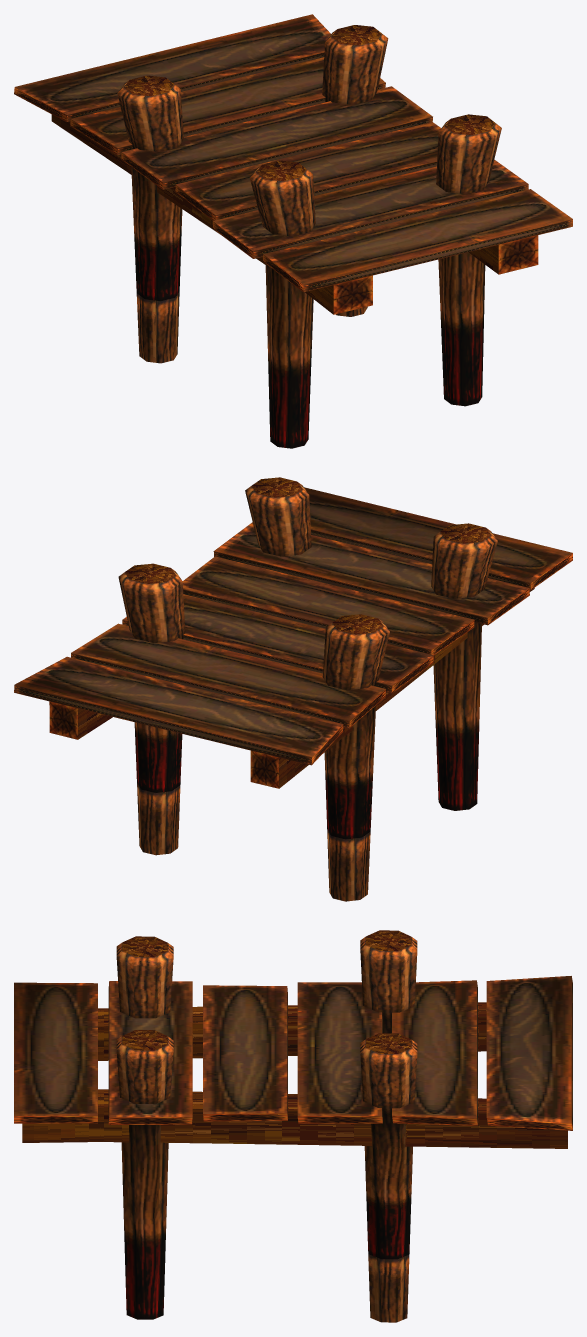
File: PIER.fbx
The picture shows the model from 3 angles, top to bottom: view 1: azimuth 30°, elevation 25°; view 2: azimuth 150°, elevation 25°; view 3: azimuth 270°, elevation 25°; orthographic projection.
Visible parts, largest first — view 1: PIER; view 2: PIER; view 3: PIER.
Part boxes in pixels (x1,y1,x2,y2): PIER: (14,14,572,448); PIER: (14,477,572,901); PIER: (14,930,572,1322).
Bounding box in the file's own units: 33200 × 28896 × 53156.
Materials: 3 (3 with a texture image).
